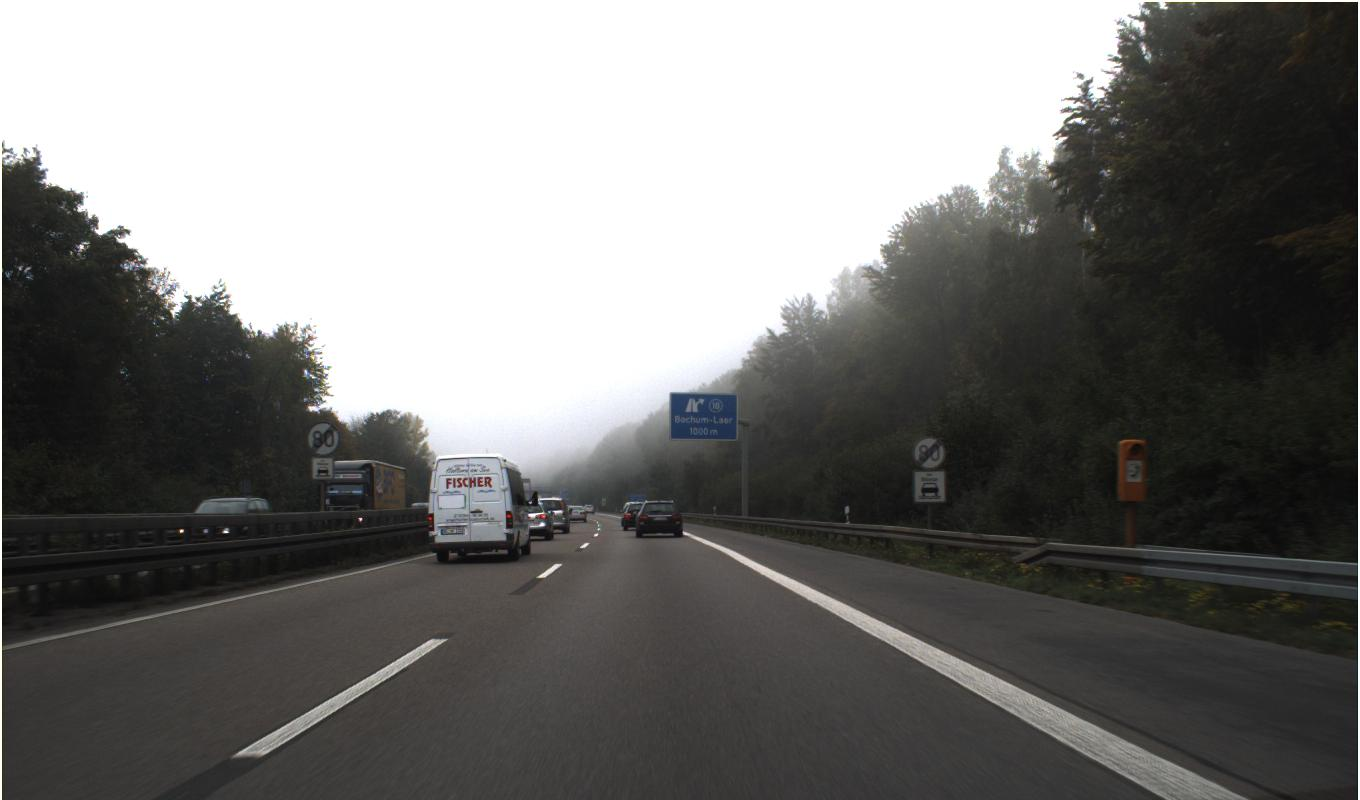prohibitory: (912, 435, 946, 470), (306, 421, 340, 456)
